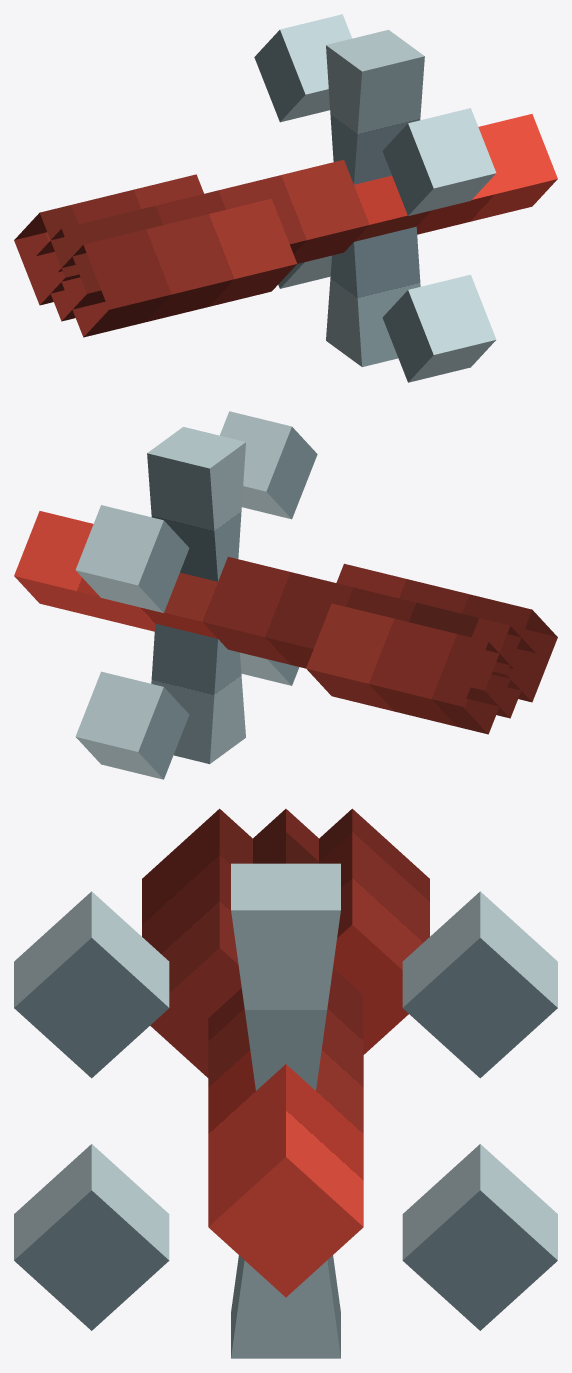
The model's file is signalite_spike_meticulous.obj.
The picture shows the model from 3 angles, top to bottom: view 1: azimuth 30°, elevation 25°; view 2: azimuth 150°, elevation 25°; view 3: azimuth 270°, elevation 25°; orthographic projection. The views are drawn at different scales.
Visible parts, largest first — view 1: SPIKE_METICULOUS_Cube.009; view 2: SPIKE_METICULOUS_Cube.009; view 3: SPIKE_METICULOUS_Cube.009.
Boxes of the visible parts, left/top/right/bottom form: SPIKE_METICULOUS_Cube.009: left=14, top=14, right=557, bottom=382; SPIKE_METICULOUS_Cube.009: left=14, top=411, right=557, bottom=779; SPIKE_METICULOUS_Cube.009: left=14, top=808, right=557, bottom=1358.
Size of the model in its own units: 0.4688 by 0.2812 by 0.3094.
